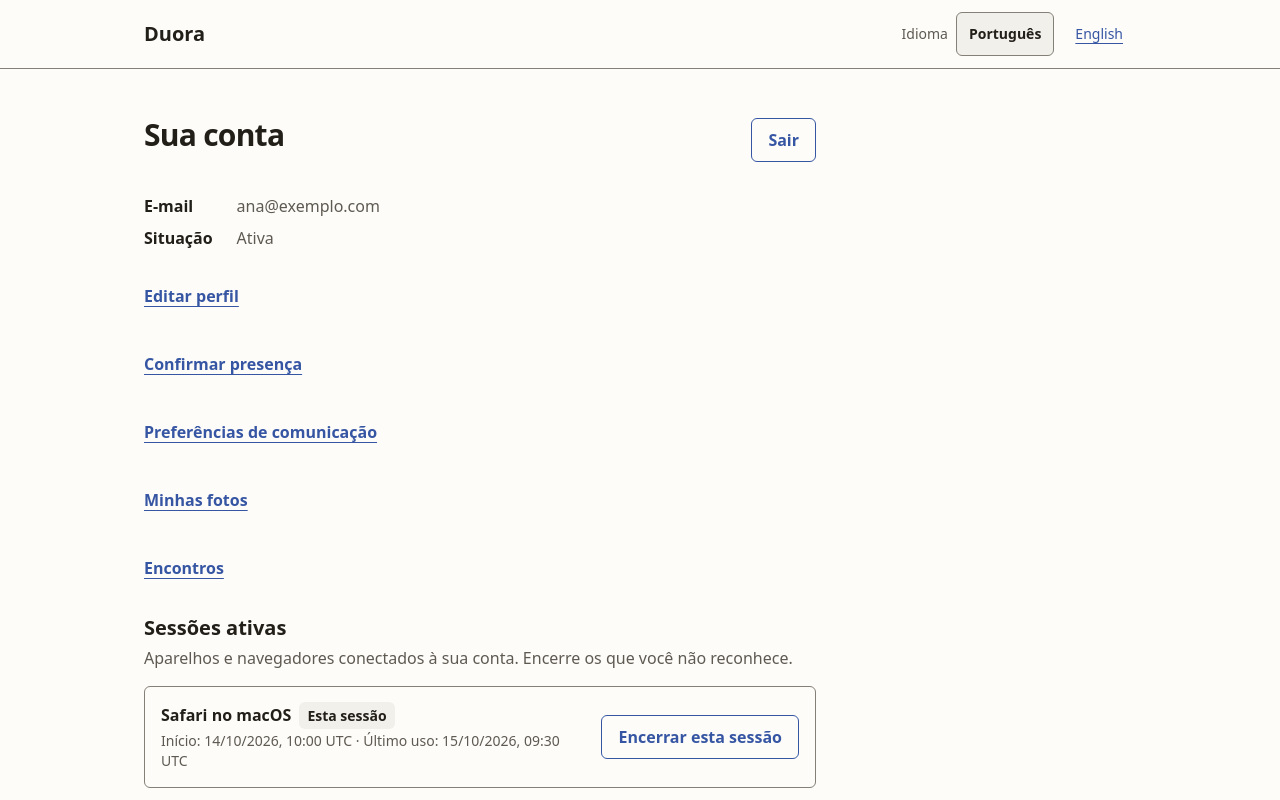
Test: área da conta › encerrar a sessão corrente equivale a sair
Click the button with aria-label "Encerrar esta sessão: Safari no macOS".
click(700, 737)  # box [602,715,799,759]
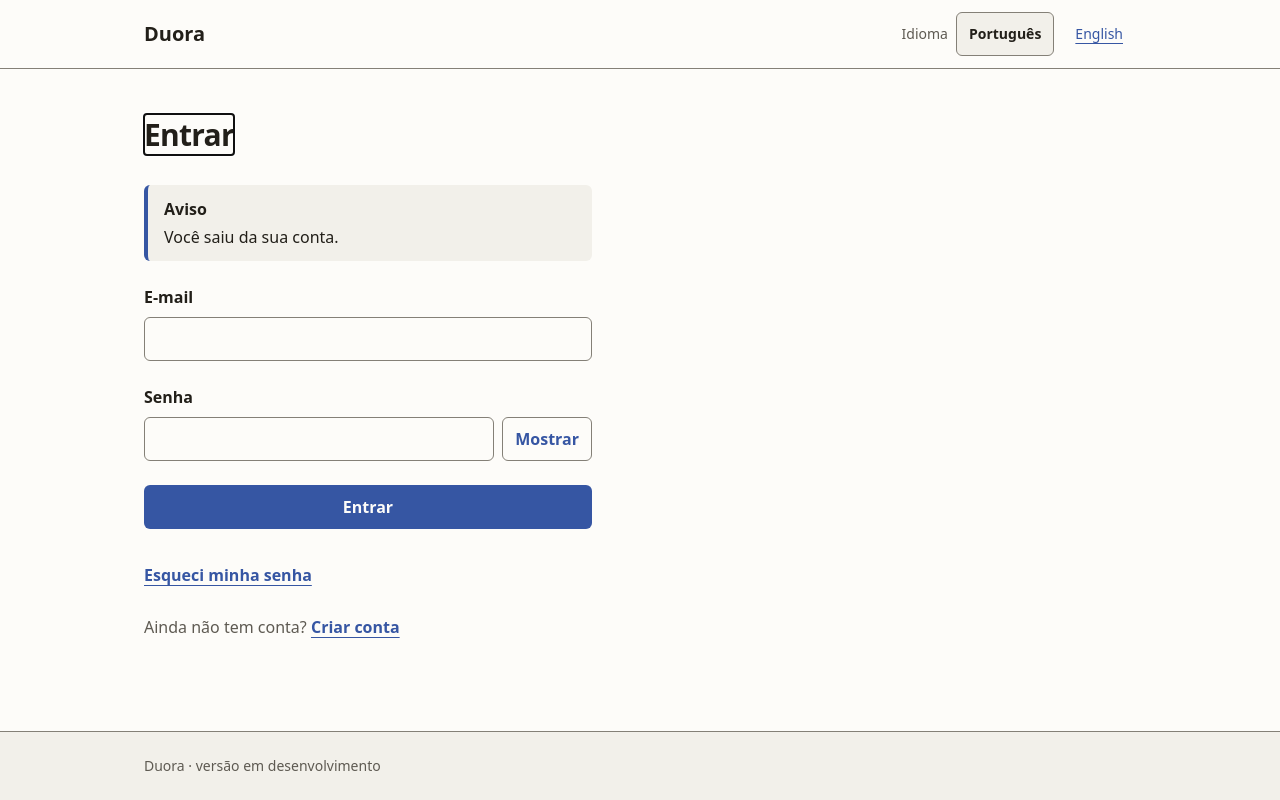
Expected: the heading "Entrar" is shown, [144,117,234,153]
Expected: the message shows "Você saiu da sua conta.", [164,226,339,248]
